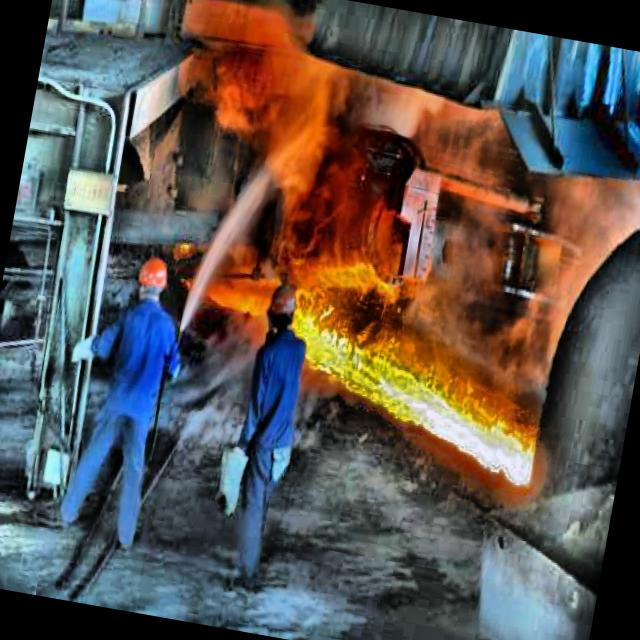helmet: (131, 254, 173, 314), (264, 278, 302, 342)
